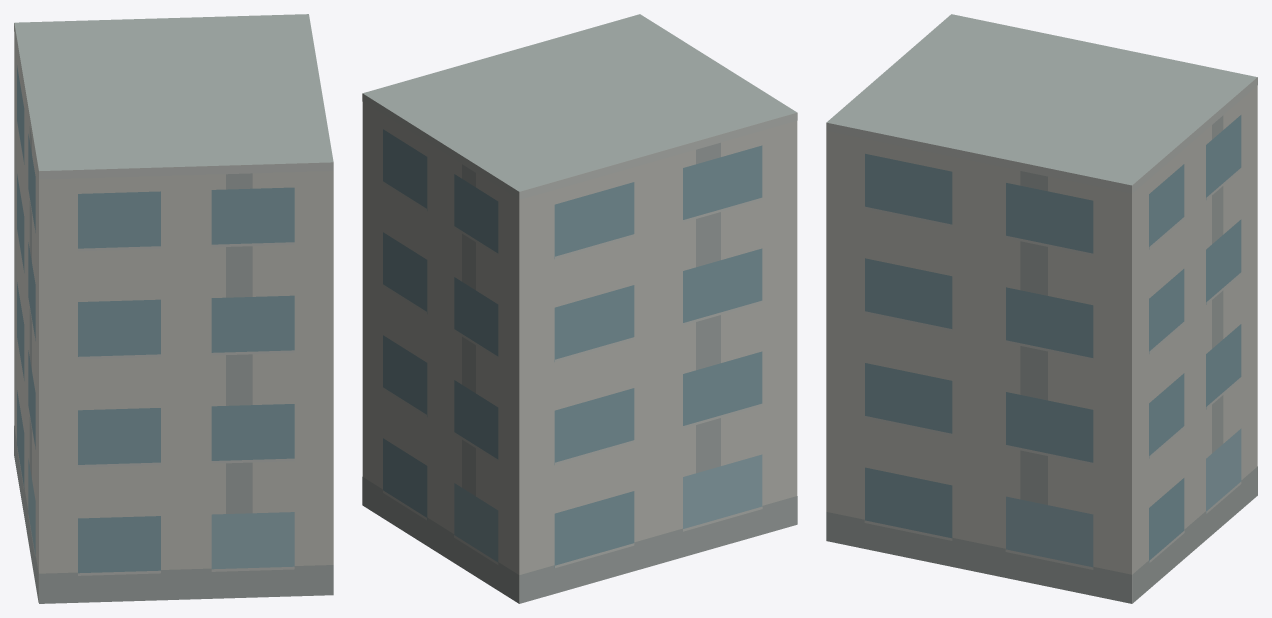
Rendered from residential-01f68466-4ff3-4b79-8a19-e3751e56bc12.glb.
3 views of the same model, side by side, from view 1: azimuth 30°, elevation 25°; view 2: azimuth 150°, elevation 25°; view 3: azimuth 270°, elevation 25° (orthographic). The views are drawn at different scales.
Visible parts, largest first — view 1: residential-01f68466-4ff3-4b79-8a19-e3751e56bc12.tmp; view 2: residential-01f68466-4ff3-4b79-8a19-e3751e56bc12.tmp; view 3: residential-01f68466-4ff3-4b79-8a19-e3751e56bc12.tmp.
Part boxes in pixels (x1,y1,x2,y2): residential-01f68466-4ff3-4b79-8a19-e3751e56bc12.tmp: [14, 14, 333, 603]; residential-01f68466-4ff3-4b79-8a19-e3751e56bc12.tmp: [362, 14, 797, 603]; residential-01f68466-4ff3-4b79-8a19-e3751e56bc12.tmp: [826, 14, 1257, 603].
Bounding box in the file's own units: 10.73 × 12.2 × 11.41.
